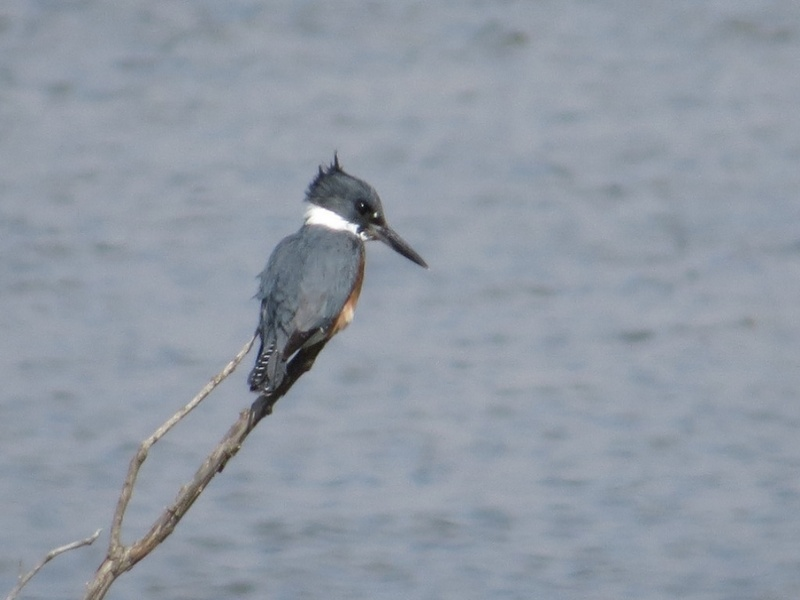kingfisher: (246, 146, 430, 397)
